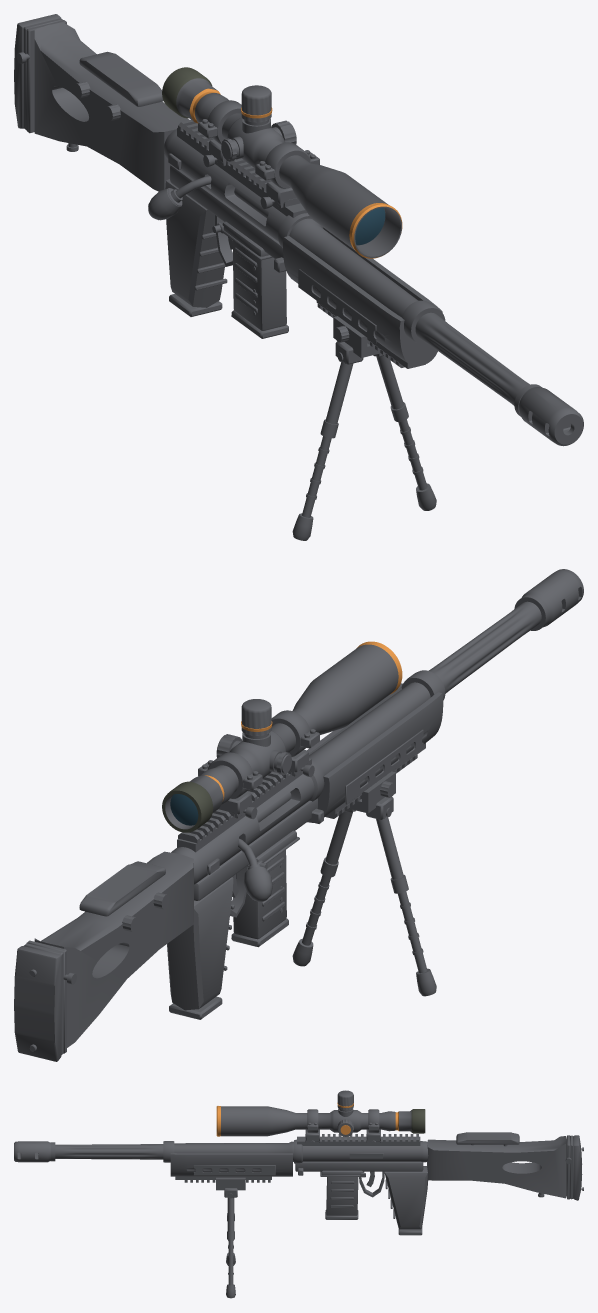
The model's file is BoltActionSniper.fbx.
3 renders of one model, top to bottom at view 1: azimuth 30°, elevation 25°; view 2: azimuth 150°, elevation 25°; view 3: azimuth 270°, elevation 25°, orthographic. The views are drawn at different scales.
Parts seen in each view (by area): view 1: Body, Scope, Magazine, CheekRiser, BipodLegRight, BipodLegLeft, Bolt; view 2: Body, Scope, Magazine, CheekRiser, BipodLegRight, BipodLegLeft, Bolt; view 3: Body, Scope, Magazine, CheekRiser, BipodLegLeft.
Part boxes in pixels (x1,y1,x2,y2): Body: (14, 14, 583, 446); Scope: (162, 67, 402, 258); Magazine: (231, 240, 288, 338); CheekRiser: (74, 51, 163, 120); BipodLegRight: (292, 361, 353, 540); BipodLegLeft: (373, 355, 436, 510); Bolt: (148, 176, 268, 220); Body: (14, 569, 583, 1061); Scope: (162, 641, 402, 832); Magazine: (231, 850, 288, 947); CheekRiser: (79, 861, 169, 931); BipodLegRight: (376, 816, 436, 996); BipodLegLeft: (292, 810, 355, 966); Bolt: (238, 792, 291, 901); Body: (14, 1134, 583, 1235); Scope: (216, 1090, 425, 1145); Magazine: (325, 1177, 358, 1219); CheekRiser: (456, 1132, 519, 1146); BipodLegLeft: (226, 1197, 235, 1298).
Bounding box in the file's own units: 15.8 × 37.83 × 104.
